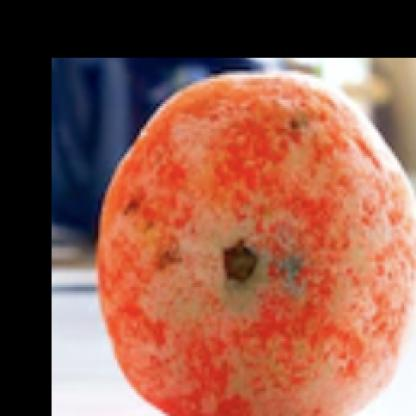rotten: (95, 74, 416, 416)
